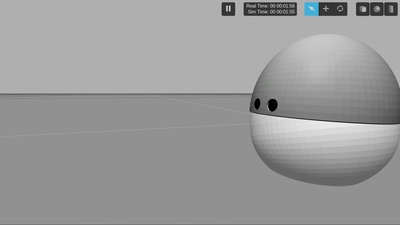mira_robot: (250, 33, 400, 188)
